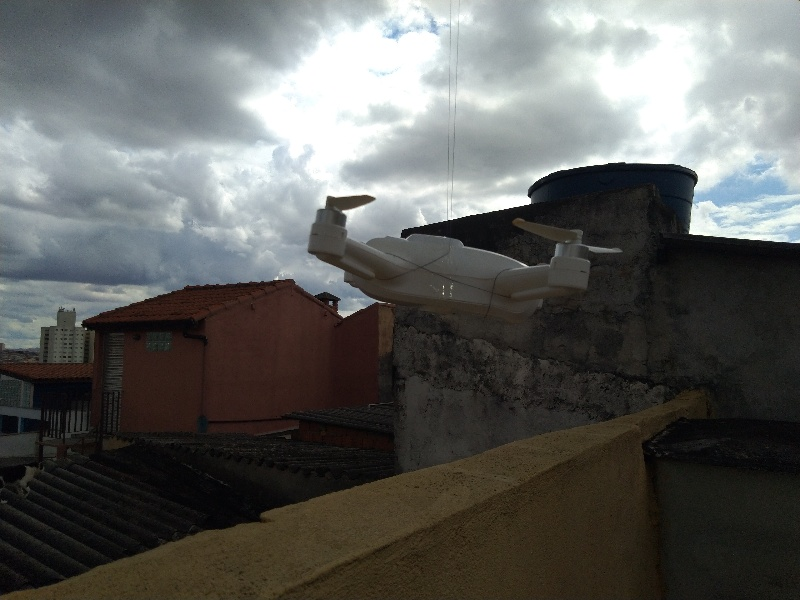drone: (301, 188, 627, 327)
